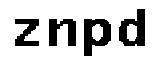d: (118, 6, 150, 50)
n: (46, 16, 78, 52)
p: (81, 15, 113, 60)
z: (11, 14, 43, 52)
